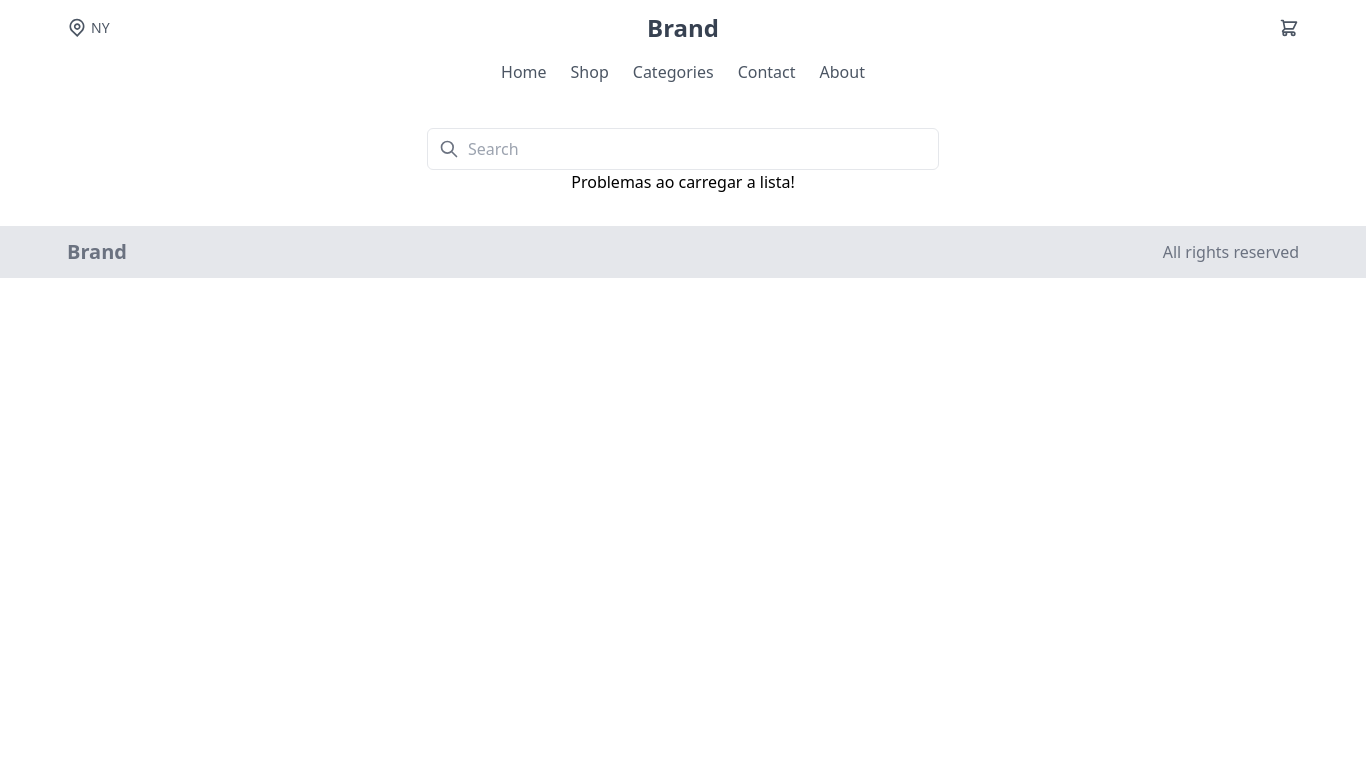
Store › Store > Shopping Card › should display "Cart is empty" message when there are no products
Click the button with test id "toggle-button" at (1289, 28), box [1279, 18, 1299, 38]
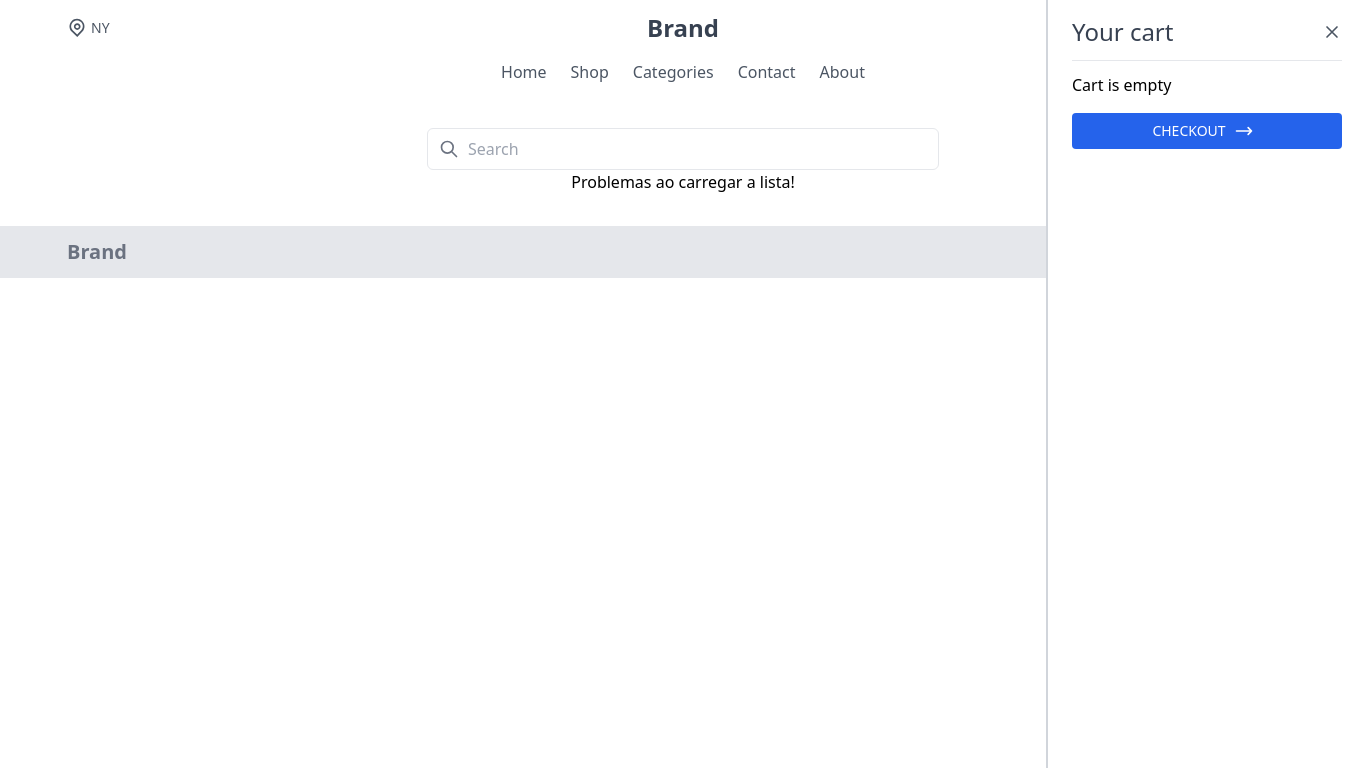
Result: the heading "Cart is empty" is shown at [1072, 74, 1171, 96]
